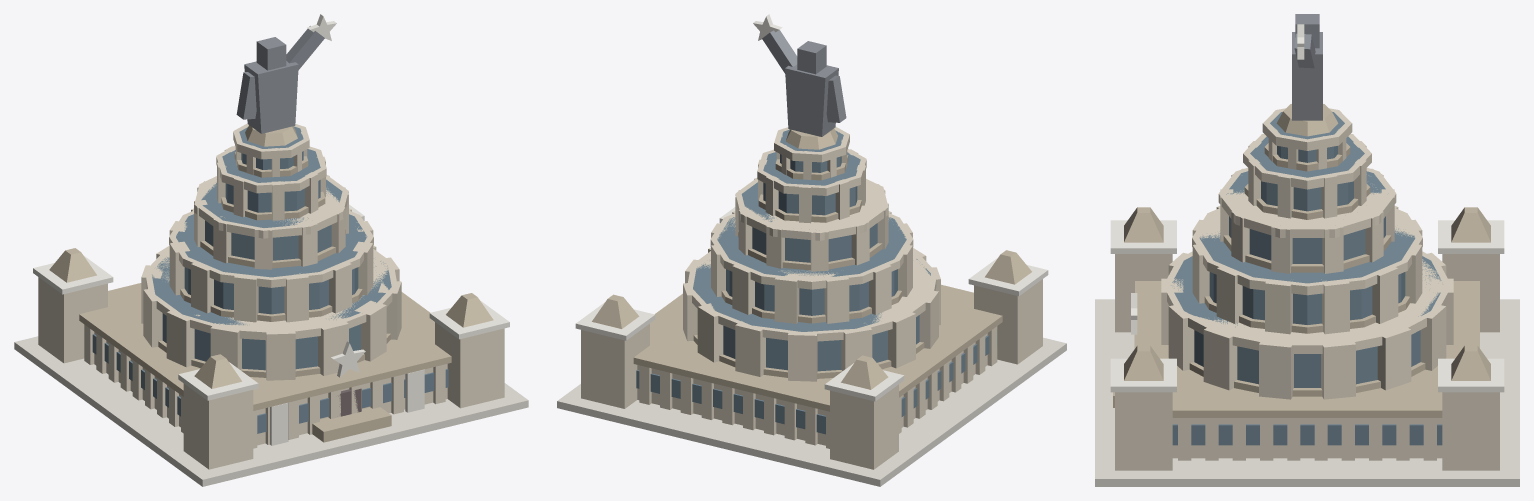
Rendered from palace_of_soviets.glb.
3 views of the same model, side by side, from view 1: azimuth 30°, elevation 25°; view 2: azimuth 150°, elevation 25°; view 3: azimuth 270°, elevation 25° (orthographic). The views are drawn at different scales.
Visible parts, largest first — view 1: wonder_palace_of_soviets; view 2: wonder_palace_of_soviets; view 3: wonder_palace_of_soviets.
Part boxes in pixels (bbox=[...]): wonder_palace_of_soviets: bbox=[14, 14, 528, 486]; wonder_palace_of_soviets: bbox=[557, 14, 1066, 486]; wonder_palace_of_soviets: bbox=[1095, 14, 1519, 486].
Bounding box in the file's own units: 0.96 × 0.995 × 0.96.
